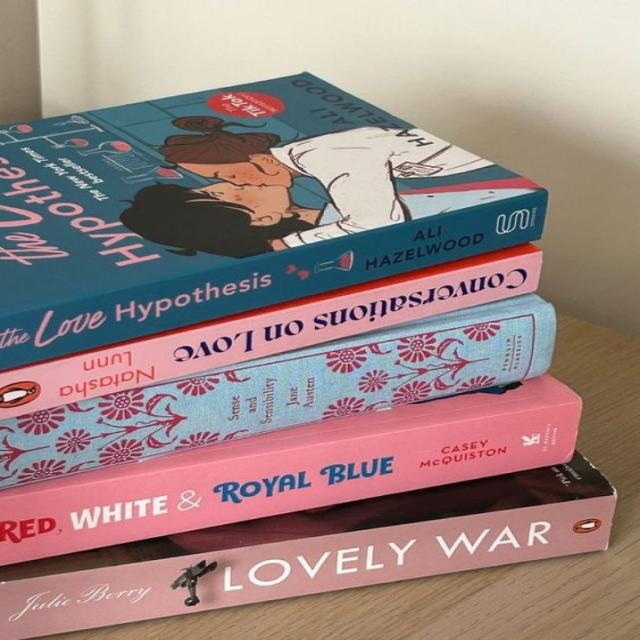book: (0, 451, 616, 639), (0, 375, 581, 564), (0, 295, 554, 489), (0, 188, 544, 370), (0, 245, 540, 418)
